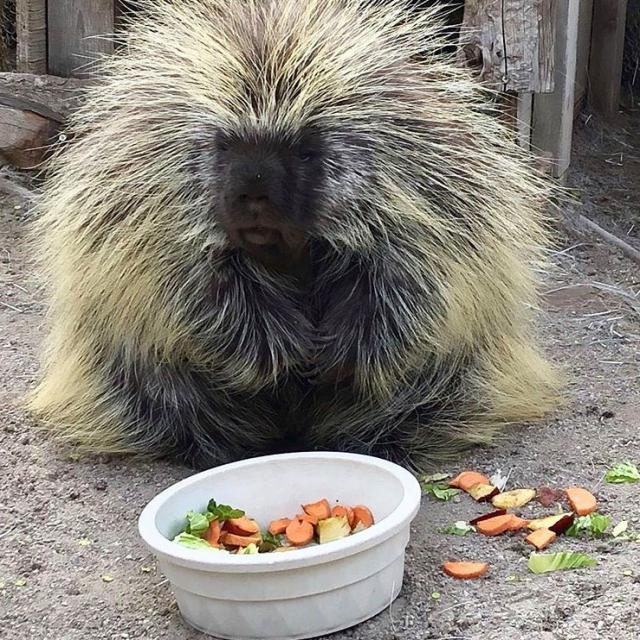porcupine: (29, 0, 559, 470)
